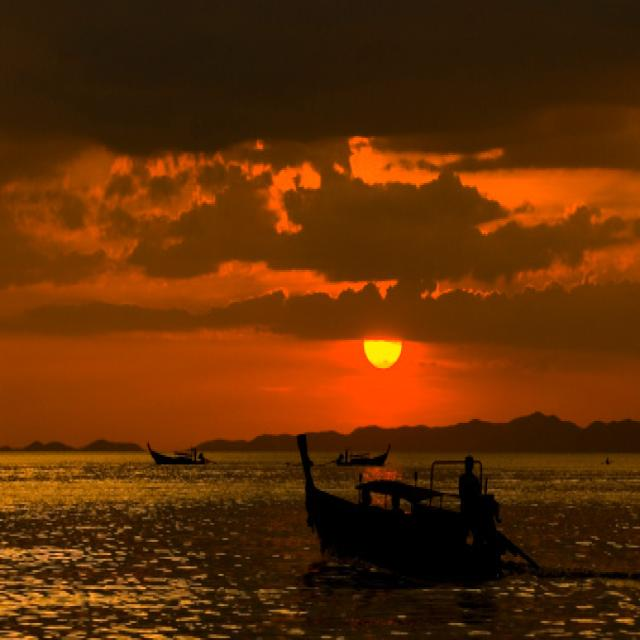Boat: (280, 444, 541, 605), (134, 421, 226, 498), (330, 422, 402, 481)
